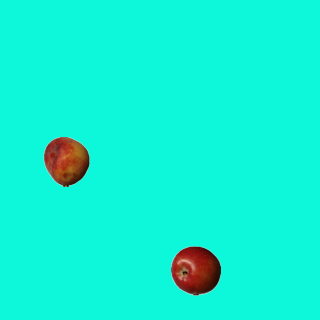Apple Braeburn: (170, 245, 220, 295)
Peach: (41, 136, 91, 186)
